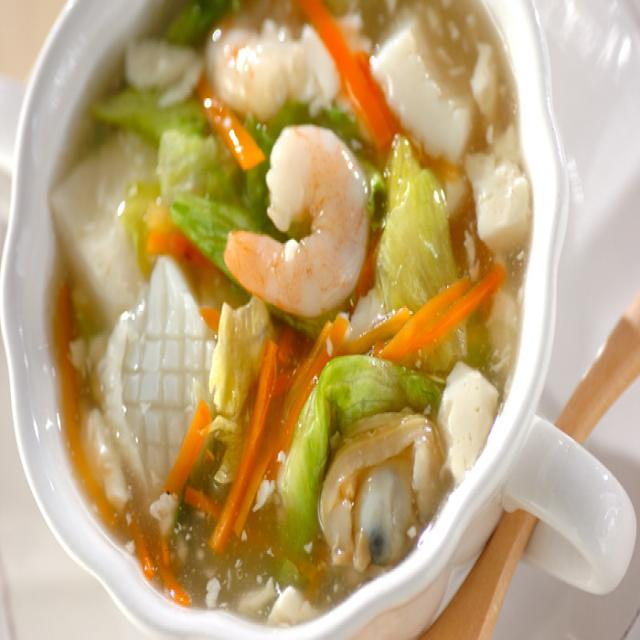汤锅炖物: (14, 12, 542, 631)
